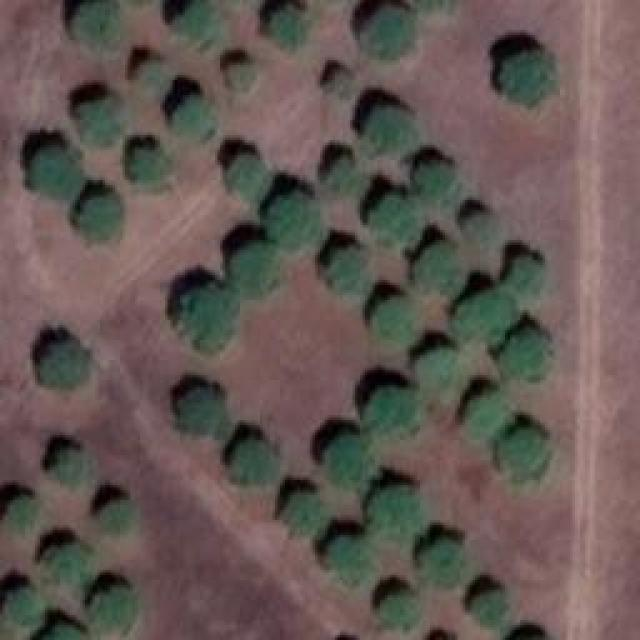Tree: (180, 285, 240, 344), (267, 193, 326, 248), (67, 0, 126, 52), (368, 3, 423, 56), (503, 50, 556, 104), (228, 240, 280, 294), (371, 383, 424, 434), (373, 485, 425, 536), (73, 95, 126, 142), (368, 108, 419, 156), (35, 148, 83, 198), (463, 293, 513, 340), (172, 0, 224, 45), (40, 343, 88, 391), (325, 438, 374, 485), (423, 540, 472, 587), (460, 400, 511, 445), (417, 243, 464, 291), (77, 198, 124, 245), (507, 330, 554, 377), (263, 5, 318, 45), (422, 350, 468, 397), (43, 542, 90, 587), (93, 590, 140, 635), (378, 298, 420, 348), (180, 385, 225, 430), (232, 438, 278, 482), (372, 198, 418, 242), (328, 248, 375, 290), (283, 492, 325, 538), (330, 535, 372, 581), (225, 153, 268, 197), (418, 160, 460, 202), (130, 143, 171, 186), (53, 450, 96, 490), (100, 503, 144, 541), (328, 155, 369, 193), (385, 593, 423, 634), (173, 108, 215, 145), (0, 495, 37, 536), (478, 588, 514, 630), (508, 250, 545, 290), (133, 58, 169, 96), (5, 588, 40, 627), (465, 210, 496, 244), (230, 58, 262, 87), (326, 68, 354, 97), (42, 627, 82, 640)
